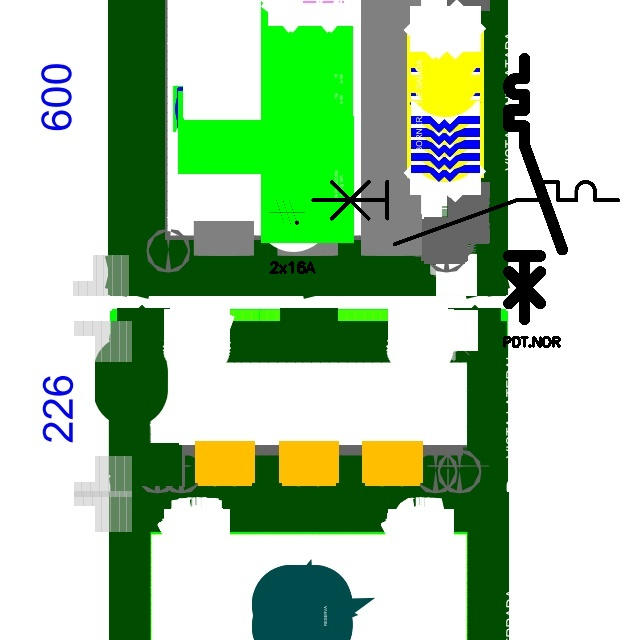interruptor_termomagnetico: (305, 174, 626, 252), (502, 52, 569, 325)
